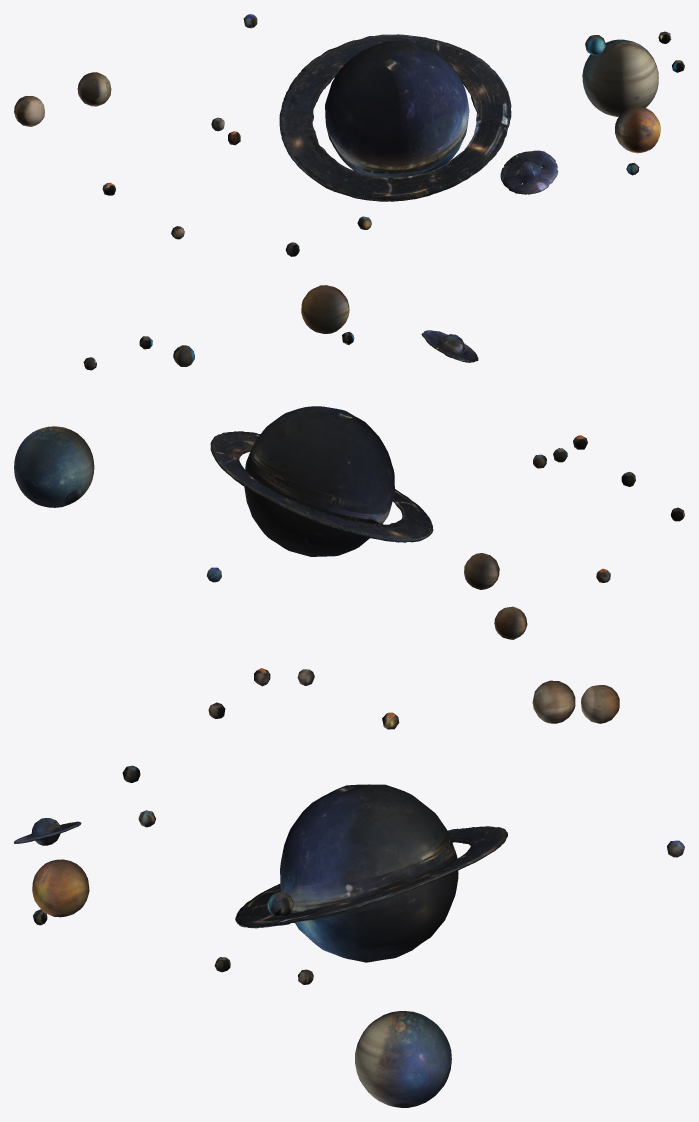
File: Meshy_AI_Generate_the_cosmos__0120111501_texture.glb
The picture shows the model from 3 angles, top to bottom: view 1: azimuth 30°, elevation 25°; view 2: azimuth 150°, elevation 25°; view 3: azimuth 270°, elevation 25°; orthographic projection. The views are drawn at different scales.
Size of the model in its own units: 2 by 0.4606 by 1.67.
Materials: 1 (1 with a texture image).
